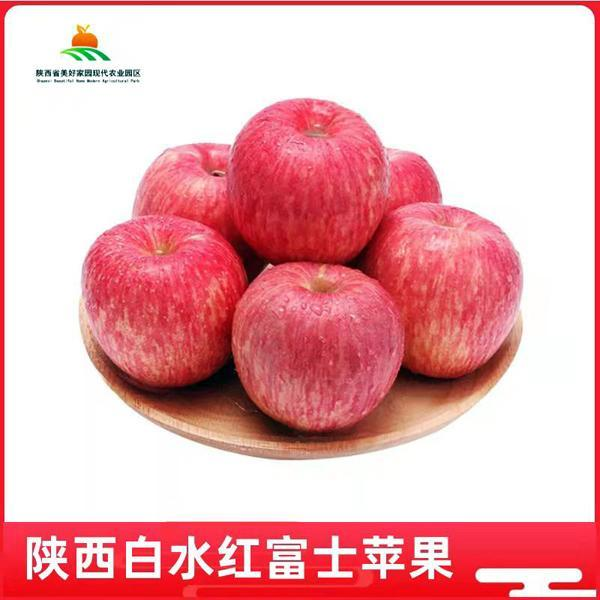apple: (227, 261, 407, 436), (79, 215, 245, 390), (223, 95, 388, 263), (368, 201, 523, 378), (131, 138, 235, 235)
